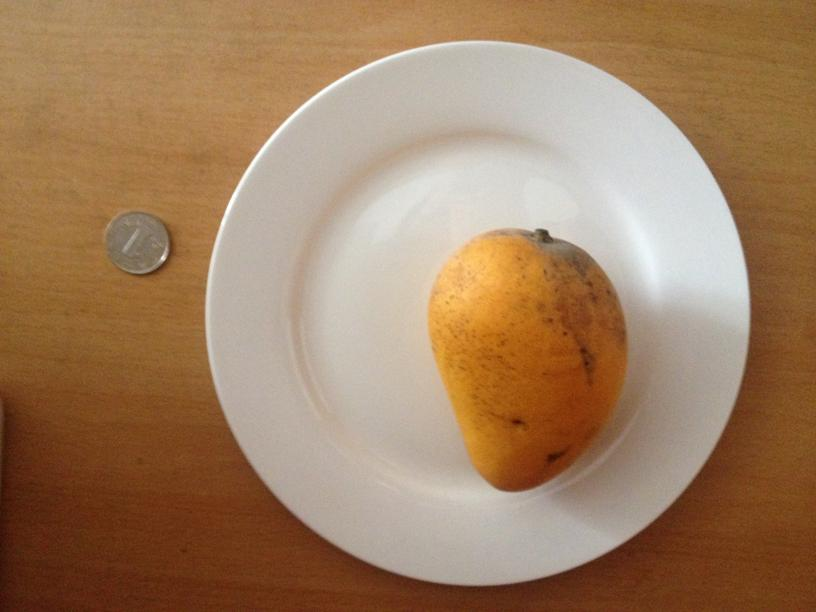coin: (104, 209, 172, 274)
mango: (429, 225, 629, 494)
